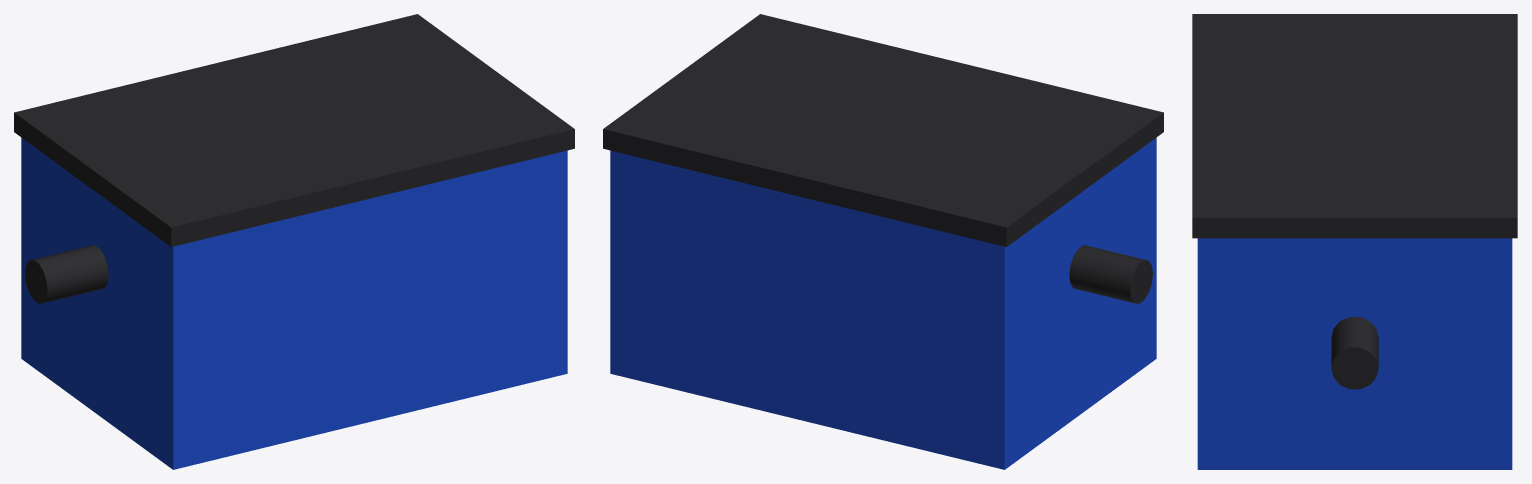
Rendered from fixture-grease-interceptor.glb.
3 views of the same model, side by side, from view 1: azimuth 30°, elevation 25°; view 2: azimuth 150°, elevation 25°; view 3: azimuth 270°, elevation 25° (orthographic). The views are drawn at different scales.
Parts seen in each view (by area): view 1: plumbing-fixture-grease-interceptor; view 2: plumbing-fixture-grease-interceptor; view 3: plumbing-fixture-grease-interceptor.
Boxes of the visible parts, box(x1,y1,x2,y2) form: plumbing-fixture-grease-interceptor: box(14, 14, 574, 469); plumbing-fixture-grease-interceptor: box(603, 14, 1163, 469); plumbing-fixture-grease-interceptor: box(1192, 14, 1517, 469).
Size of the model in its own units: 1.1 by 0.5 by 0.58.
